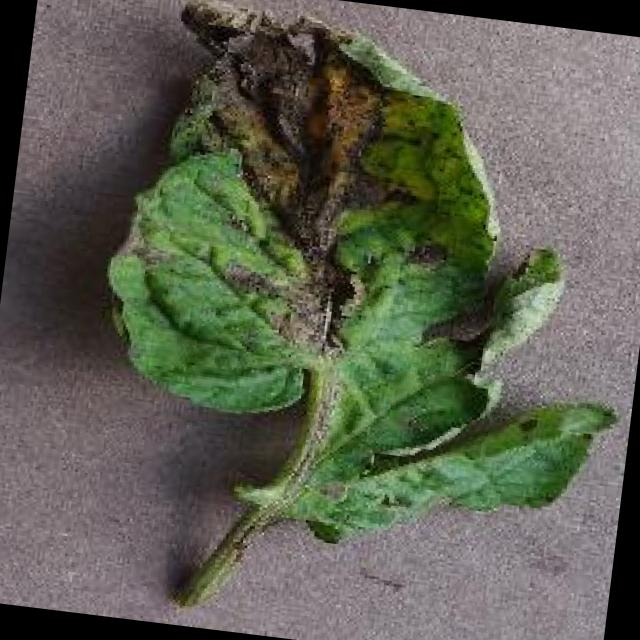Tomato_Early_Blight: (86, 0, 482, 412)
